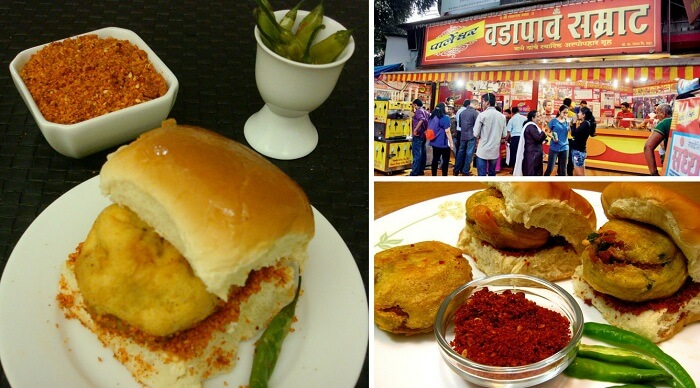vada pav: (113, 154, 237, 364), (604, 190, 672, 326), (502, 183, 570, 274)
